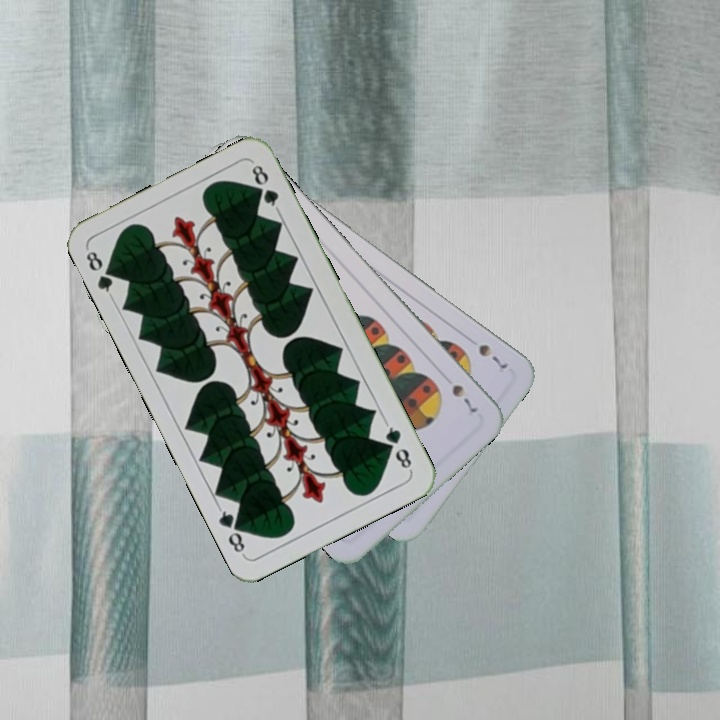G8: (81, 247, 120, 300), (381, 419, 414, 474)
S7: (447, 380, 483, 419), (474, 340, 511, 372)
